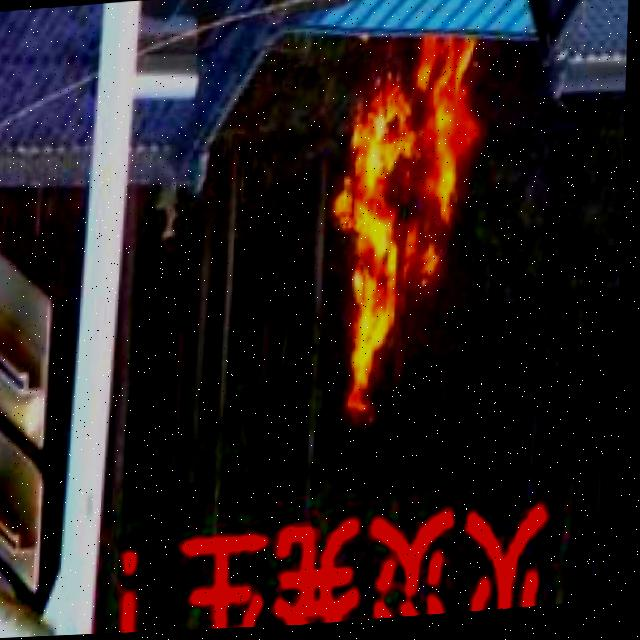Fire: (304, 27, 504, 447)
